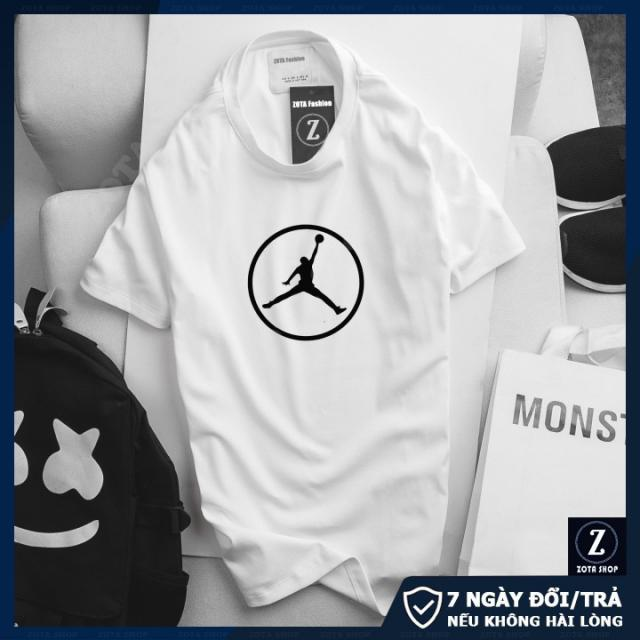Shirt: (81, 28, 523, 610)
